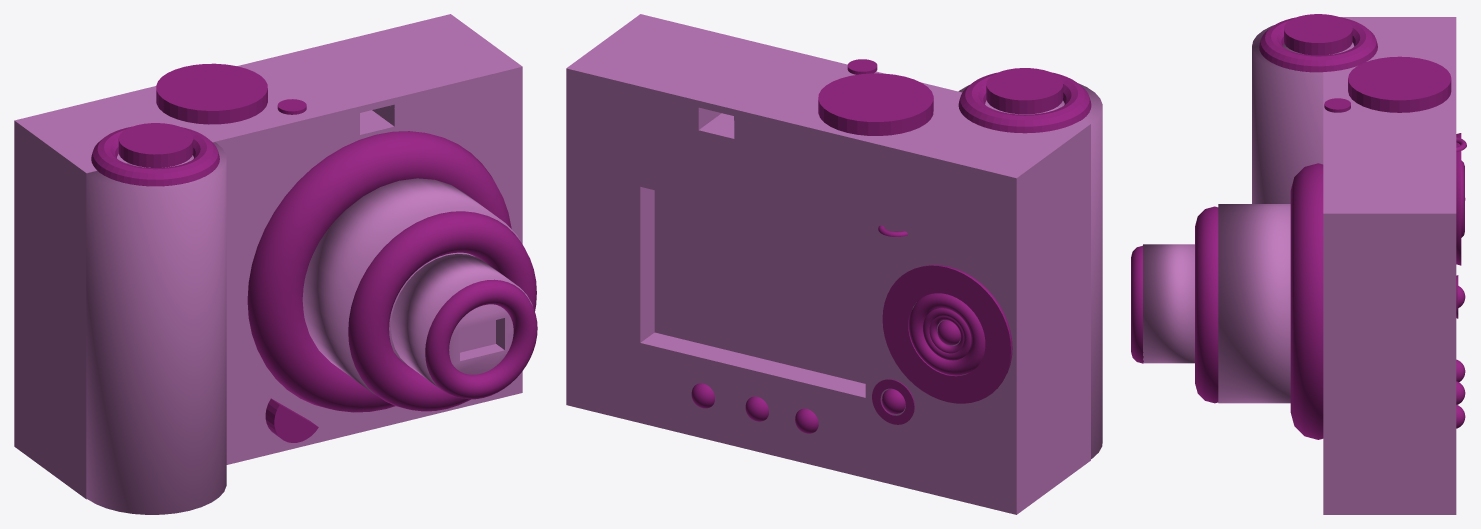
Rendered from camera.glb.
3 renders of one model, left to right at view 1: azimuth 30°, elevation 25°; view 2: azimuth 150°, elevation 25°; view 3: azimuth 270°, elevation 25°, orthographic. The views are drawn at different scales.
Visible parts, largest first — view 1: Cube, Cylinder, Torus.001, Torus.002, Cylinder.004, Cylinder.005, Torus.003, Cylinder.002, Torus, Cylinder.001, Cylinder.006; view 2: Cube, Torus.007, Cylinder.002, Cylinder, Torus, Cylinder.001, Torus.006, Torus.009, Torus.004; view 3: Cube, Cylinder.004, Cylinder, Torus.001, Cylinder.005, Cylinder.002, Torus.002, Torus, Cylinder.001, Torus.003, Torus.007.
Boxes of the visible parts, box(x1,y1,x2,y2) form: Cube: box(14, 14, 522, 499); Cylinder: box(86, 142, 226, 514); Torus.001: box(247, 131, 511, 412); Torus.002: box(348, 211, 536, 411); Cylinder.004: box(302, 178, 525, 394); Cylinder.005: box(391, 254, 532, 389); Torus.003: box(425, 279, 537, 399); Cylinder.002: box(156, 63, 267, 124); Torus: box(91, 126, 219, 186); Cylinder.001: box(118, 123, 193, 167); Cylinder.006: box(265, 398, 318, 442); Cube: box(566, 14, 1090, 514); Torus.007: box(882, 265, 1012, 403); Cylinder.002: box(818, 73, 933, 135); Cylinder: box(958, 83, 1102, 458); Torus: box(958, 72, 1091, 133); Cylinder.001: box(986, 68, 1063, 114); Torus.006: box(909, 293, 985, 375); Torus.009: box(872, 379, 914, 424); Torus.004: box(923, 308, 971, 360); Cube: box(1323, 17, 1456, 514); Cylinder.004: box(1218, 204, 1290, 403); Cylinder: box(1252, 25, 1323, 203); Torus.001: box(1290, 163, 1323, 439); Cylinder.005: box(1143, 244, 1194, 363); Cylinder.002: box(1348, 56, 1451, 112); Torus.002: box(1195, 206, 1218, 403); Torus: box(1259, 17, 1377, 72); Cylinder.001: box(1284, 14, 1352, 55); Torus.003: box(1131, 245, 1143, 363); Torus.007: box(1456, 133, 1461, 265).
Bounding box in the file's own units: 3.38 × 2.56 × 2.44.
